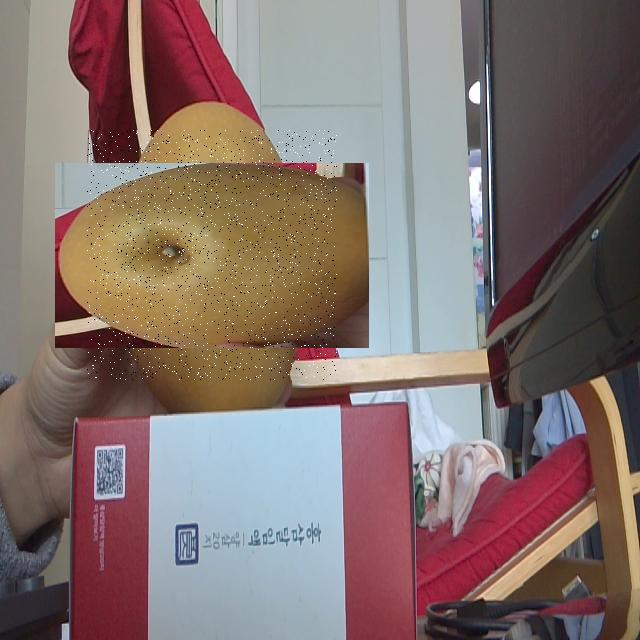pear: (88, 130, 338, 380)
